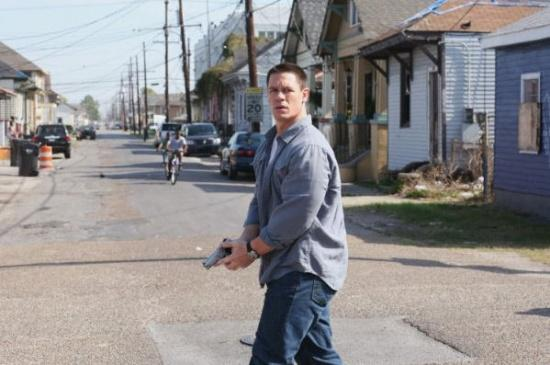Gun: (203, 237, 237, 271)
